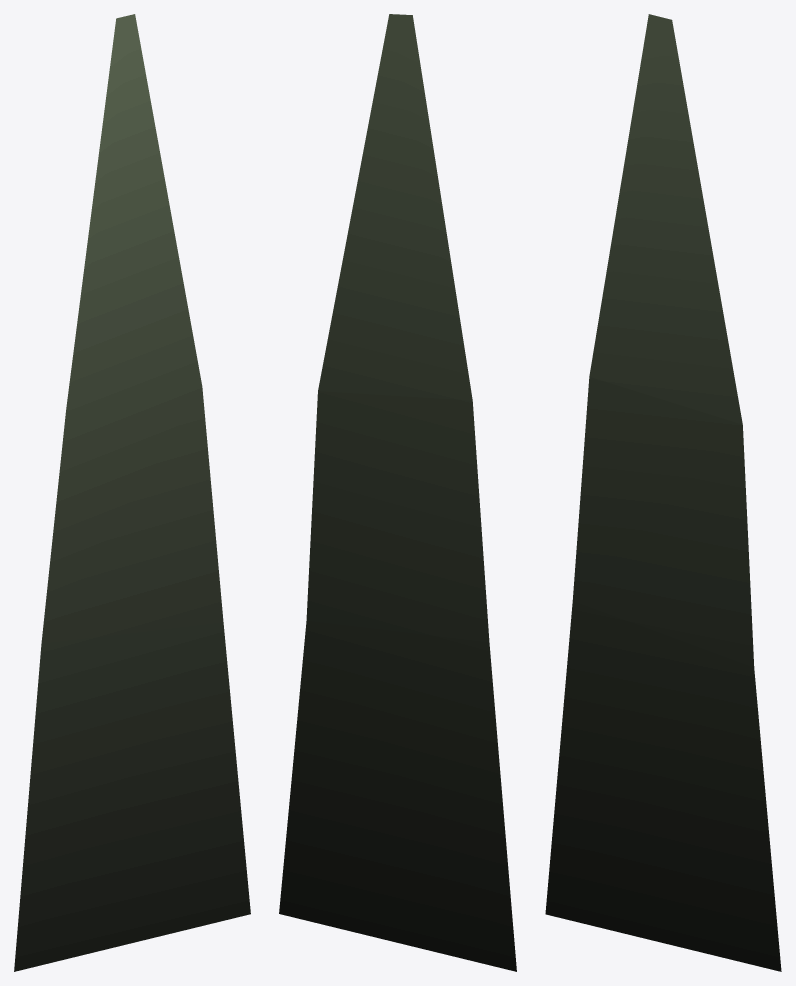
The model's file is GrassSingle1.glb.
3 views of the same model, side by side, from view 1: azimuth 30°, elevation 25°; view 2: azimuth 150°, elevation 25°; view 3: azimuth 330°, elevation 25° (orthographic).
Visible parts, largest first — view 1: GrassSingle1; view 2: GrassSingle1; view 3: GrassSingle1.
Boxes of the visible parts, left/top/right/bottom form: GrassSingle1: left=14, top=14, right=250, bottom=971; GrassSingle1: left=279, top=14, right=516, bottom=971; GrassSingle1: left=545, top=14, right=781, bottom=971.
Bounding box in the file's own units: 0.128 × 0.4791 × 0.00837.
1 material, 1 textured.
